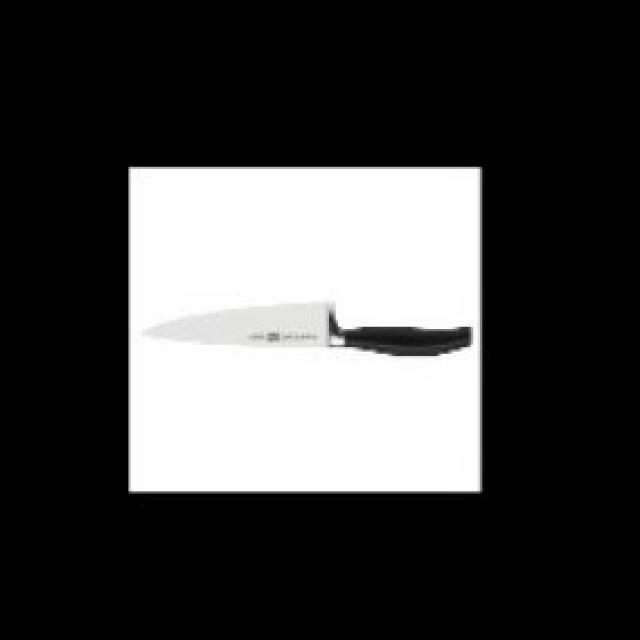knife: (136, 306, 483, 363)
